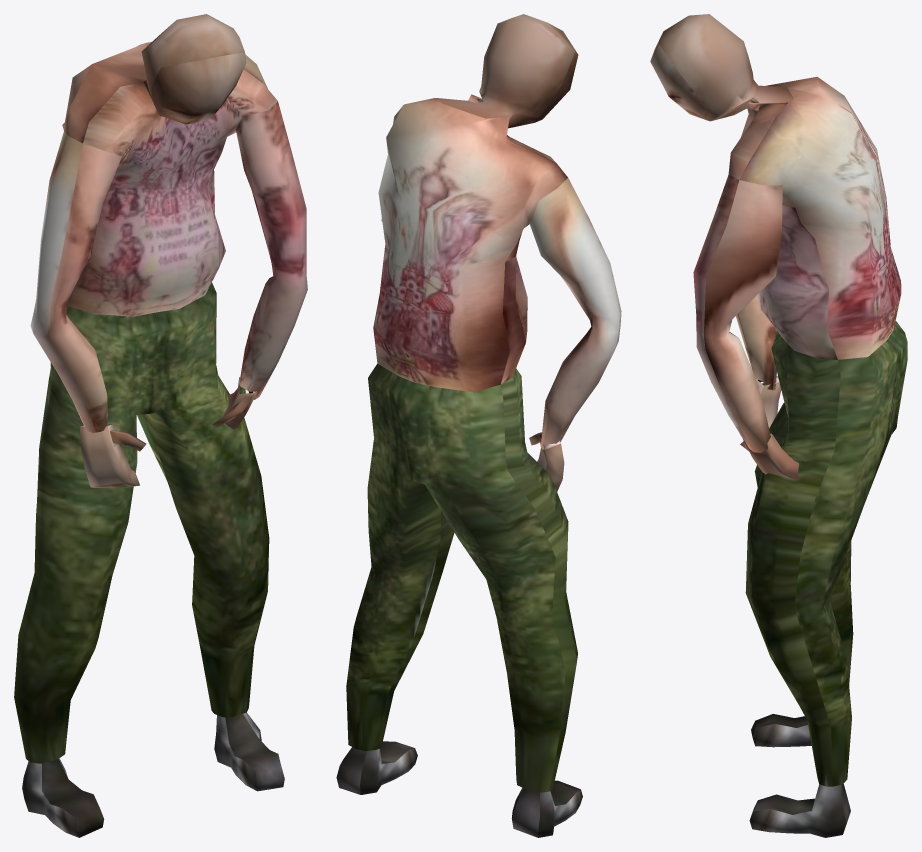
Rendered from dead_oleg.fbx.
3 views of the same model, side by side, from view 1: azimuth 30°, elevation 25°; view 2: azimuth 150°, elevation 25°; view 3: azimuth 270°, elevation 25° (orthographic). The views are drawn at different scales.
Parts seen in each view (by area): view 1: oleg; view 2: oleg; view 3: oleg.
Boxes of the visible parts, x1=… form: oleg: x1=14, y1=14, x2=307, y2=837; oleg: x1=336, y1=14, x2=621, y2=837; oleg: x1=650, y1=14, x2=907, y2=837.
Bounding box in the file's own units: 37.69 × 111 × 34.24.
